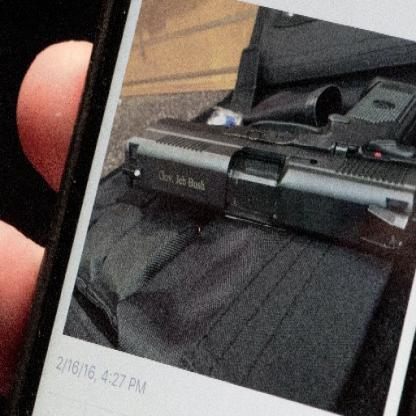gun: (117, 74, 415, 261)
